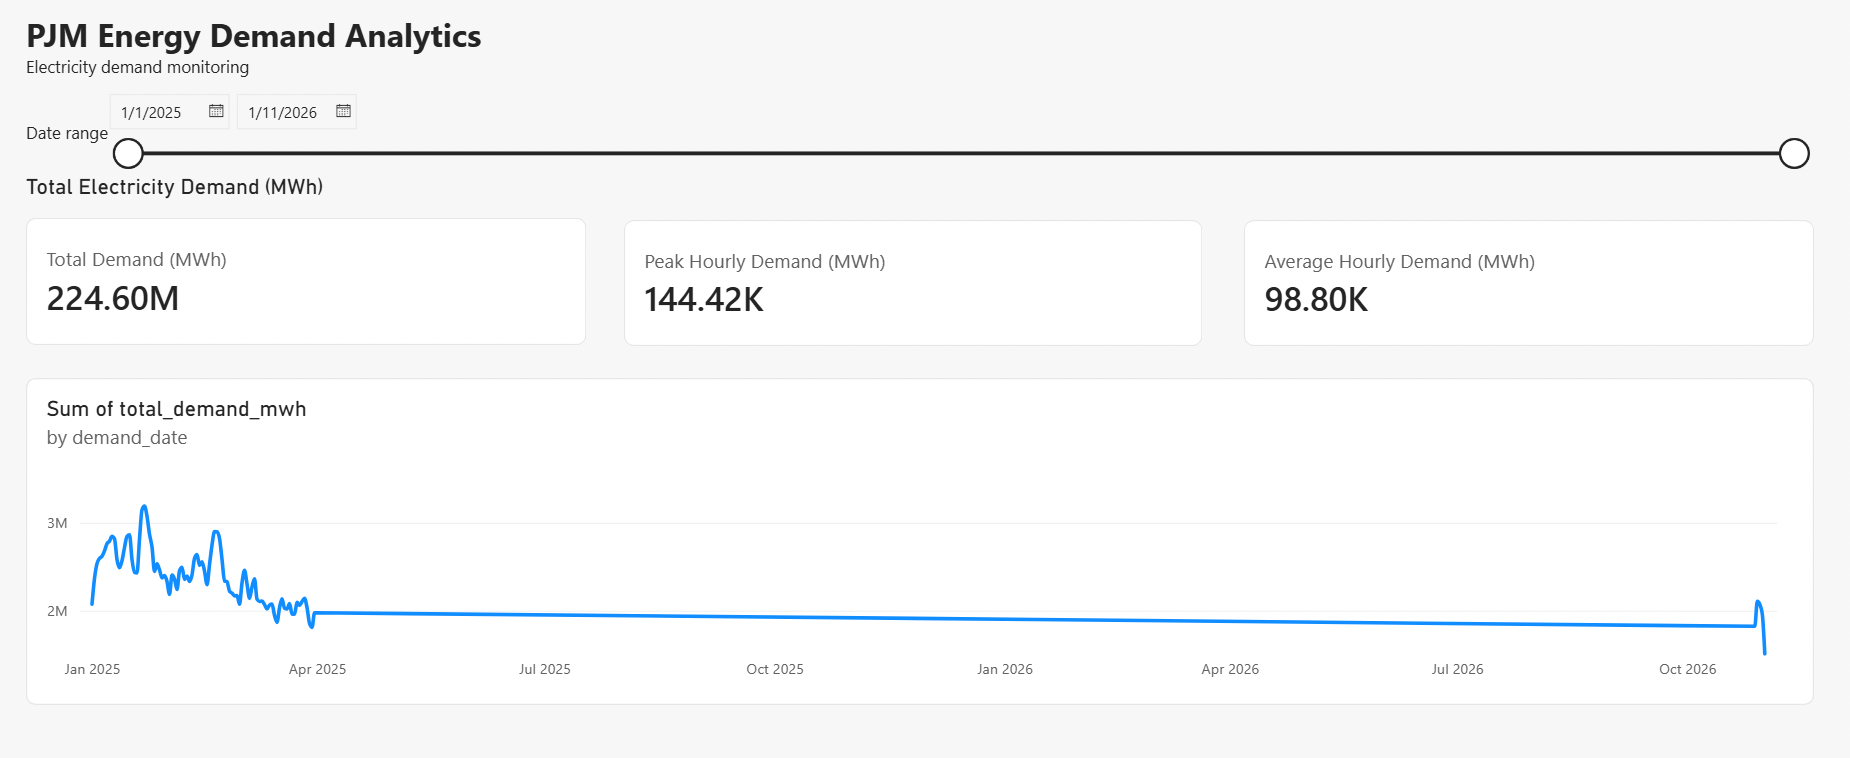

The page's visual inventory and layout, read from the dashboard file:
{"tool":"powerbi","page":{"name":"Page 1","canvas":[1920,1080],"ordinal":0},"visuals":[{"type":"lineChart","fields":{"Category":["mart_daily_demand (2).demand_date"],"Y":["Sum(mart_daily_demand (2).total_demand_mwh)"]},"box":[90,325,1490,272.5],"z":0},{"type":"cardVisual","title":"Total Electricity Demand (MWh)","fields":{"Data":["Sum(mart_daily_demand (2).total_demand_mwh)"]},"box":[90,155,467.5,142.5],"z":1000},{"type":"slicer","fields":{"Values":["DimDate.Date"]},"box":[152,84,1428,94],"z":2000},{"type":"cardVisual","fields":{"Data":["Max(mart_daily_demand (2).peak_demand_mwh)"]},"box":[587.5,192.5,482.5,105],"z":2001},{"type":"cardVisual","fields":{"Data":["Avg(mart_daily_demand (2).avg_demand_mwh)"]},"box":[1105,192.5,475,105],"z":2002},{"type":"textbox","box":[90,20,384,172],"z":2003}]}

Visuals, with their boxes on the page's 1920x1080 design canvas (x1, y1, x2, y2). These are canvas units, not pixel positions in the 1850x758 screenshot, which may show the page scaled, cropped or inside an application window:
lineChart - mart_daily_demand (2).demand_date x Sum(mart_daily_demand (2).total_demand_mwh): {"left": 90, "top": 325, "right": 1580, "bottom": 598}
"Total Electricity Demand (MWh)" cardVisual: {"left": 90, "top": 155, "right": 558, "bottom": 298}
slicer - DimDate.Date: {"left": 152, "top": 84, "right": 1580, "bottom": 178}
cardVisual - Max(mart_daily_demand (2).peak_demand_mwh): {"left": 588, "top": 192, "right": 1070, "bottom": 298}
cardVisual - Avg(mart_daily_demand (2).avg_demand_mwh): {"left": 1105, "top": 192, "right": 1580, "bottom": 298}
textbox: {"left": 90, "top": 20, "right": 474, "bottom": 192}
